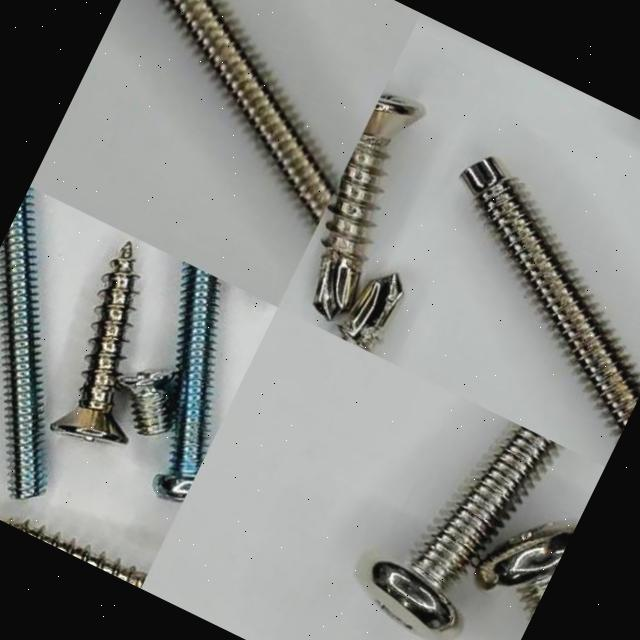Screw: (460, 156, 640, 442), (357, 423, 561, 640), (160, 0, 334, 228), (312, 95, 421, 320), (50, 240, 135, 443), (152, 262, 216, 501), (0, 187, 44, 499), (0, 519, 147, 588), (475, 526, 573, 620), (337, 274, 402, 352), (118, 371, 172, 434)
